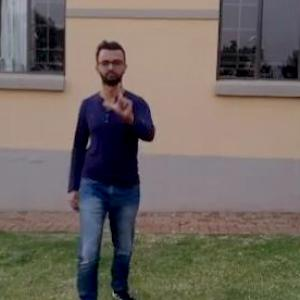land_hand: (100, 77, 136, 121)
